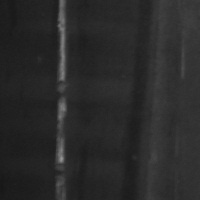scratches: (52, 0, 72, 196)
